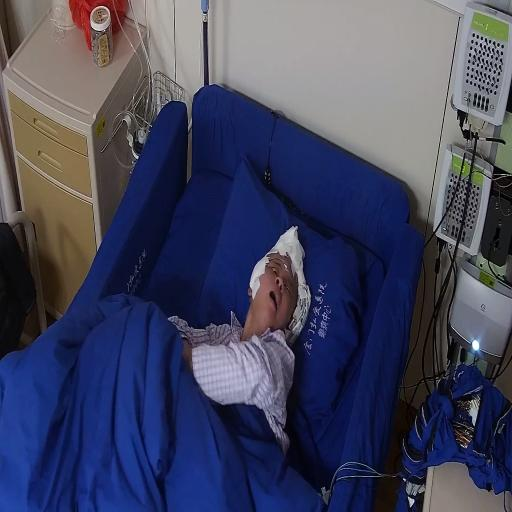Seizure: (252, 236, 300, 334)
